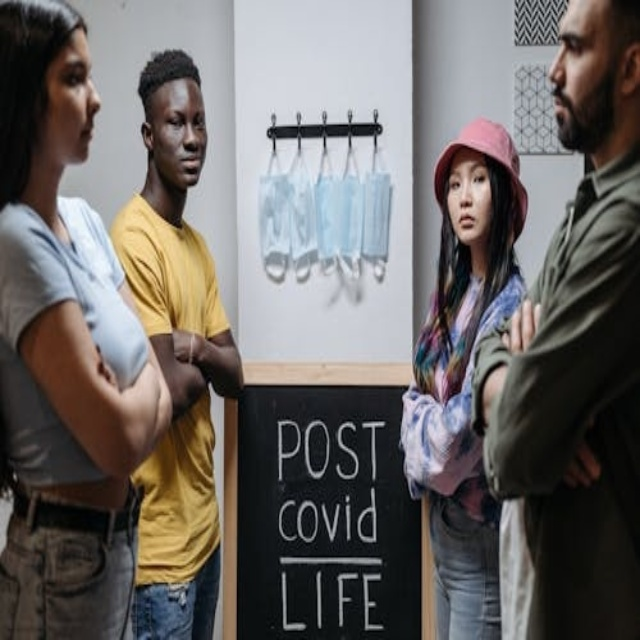Guantes: (360, 165, 392, 263)
Sin_gafas: (552, 25, 595, 69), (159, 102, 207, 134), (56, 52, 95, 90), (447, 165, 489, 192)
Sin_mascara: (550, 84, 580, 144), (67, 117, 99, 163), (177, 151, 200, 182), (451, 213, 479, 234)
